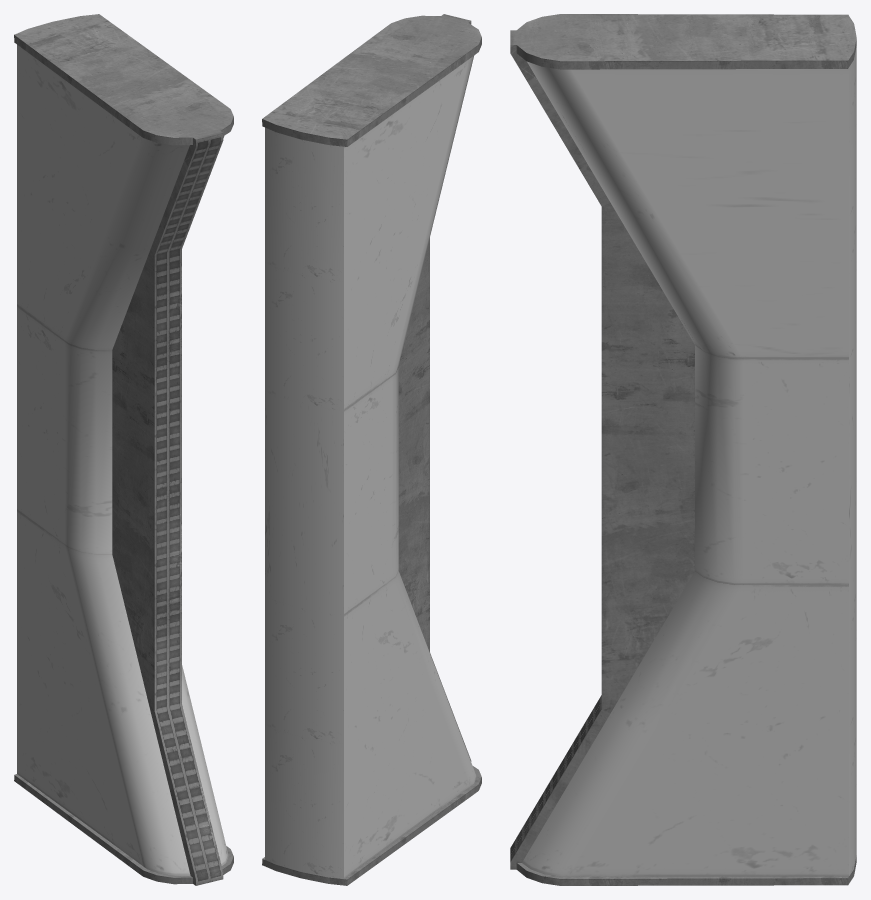
File: Wall_SupportBeam_FULL.fbx
3 views of the same model, side by side, from view 1: azimuth 30°, elevation 25°; view 2: azimuth 150°, elevation 25°; view 3: azimuth 270°, elevation 25° (orthographic). The views are drawn at different scales.
Parts seen in each view (by area): view 1: Wall_SupportBeam_FULL; view 2: Wall_SupportBeam_FULL; view 3: Wall_SupportBeam_FULL.
Part boxes in pixels (x1,y1,x2,y2): Wall_SupportBeam_FULL: (14,14,233,885); Wall_SupportBeam_FULL: (262,14,481,885); Wall_SupportBeam_FULL: (510,14,856,885).
Size of the model in its own units: 1.08 by 8.8 by 3.35.
